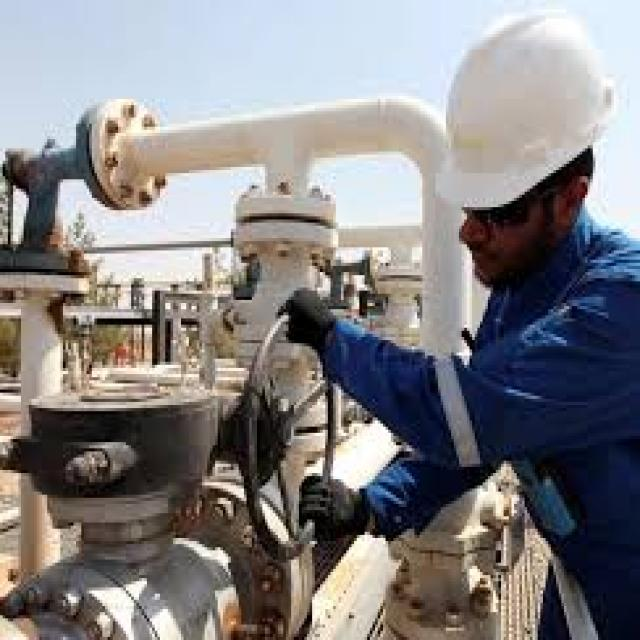Reflective-Jacket: (419, 235, 640, 640)
Safety-Helmet: (428, 7, 619, 216)
